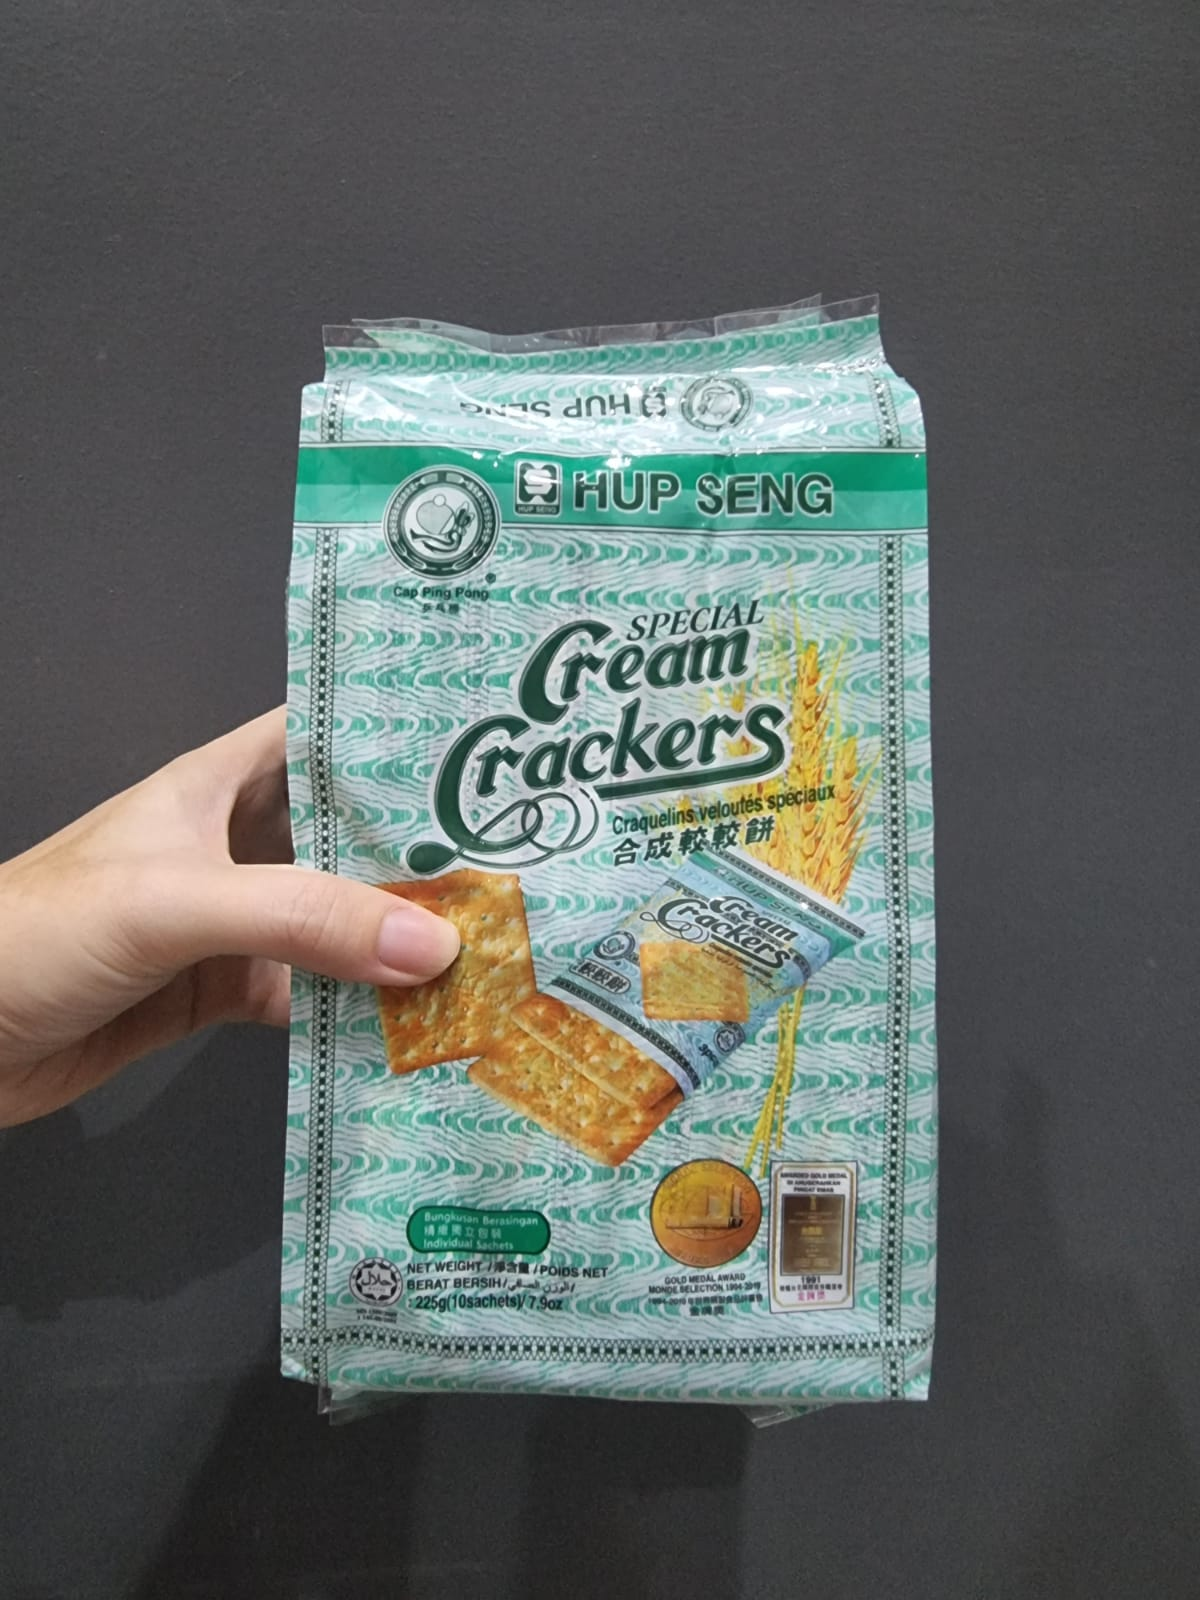Halal: (350, 1259, 403, 1308)
